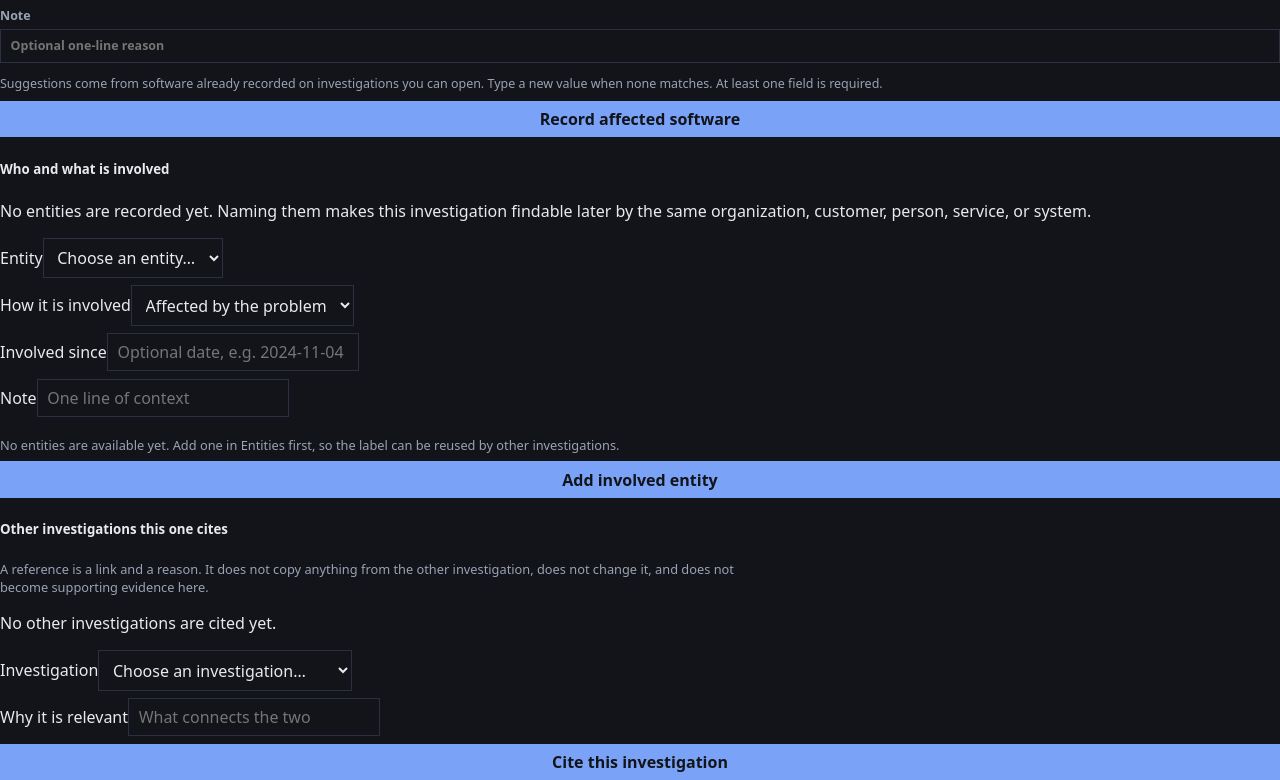
it: citations › explains a refused citation in terms of access, not failure
(page scrolled)
Select "Synthetic prior investigation" in the dropdown named "Investigation to cite" at (225, 671), box [98,650,352,691]
(page scrolled)
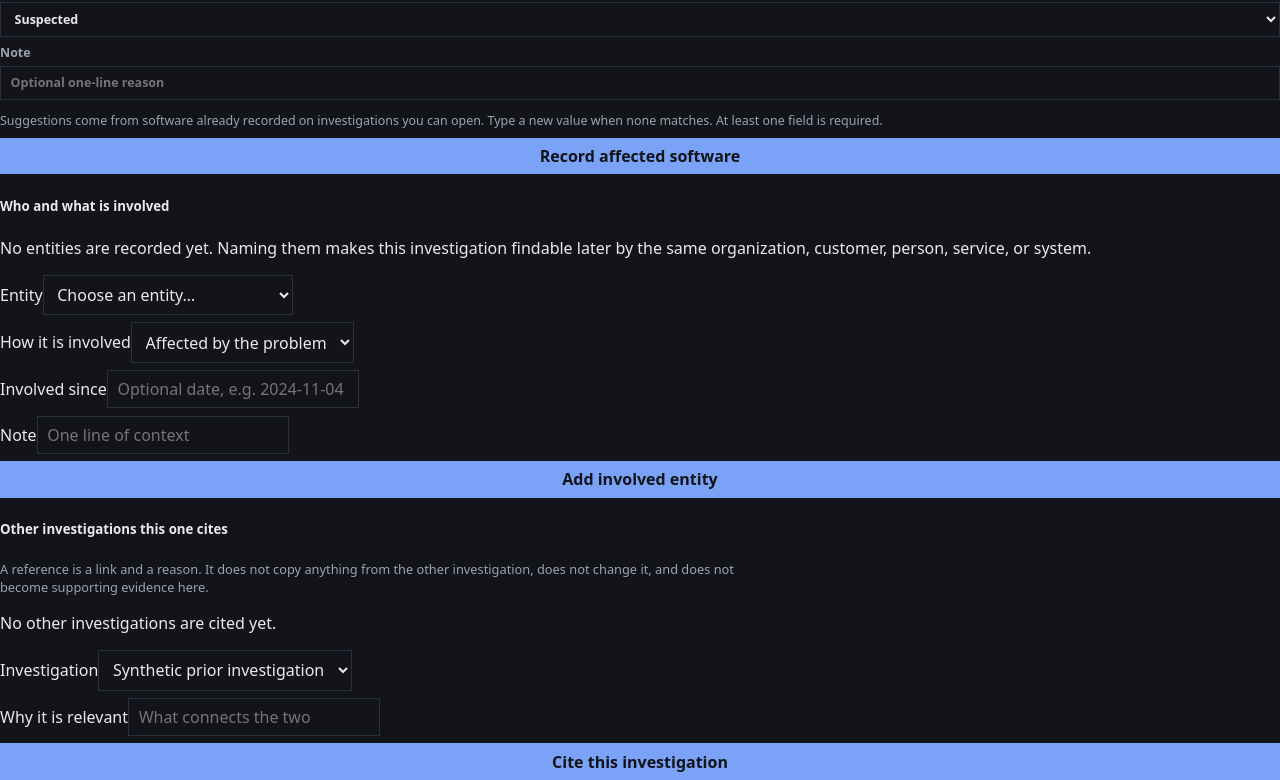
Submit the form named "Cite another investigation", box [0,650,1279,779]
(page scrolled)
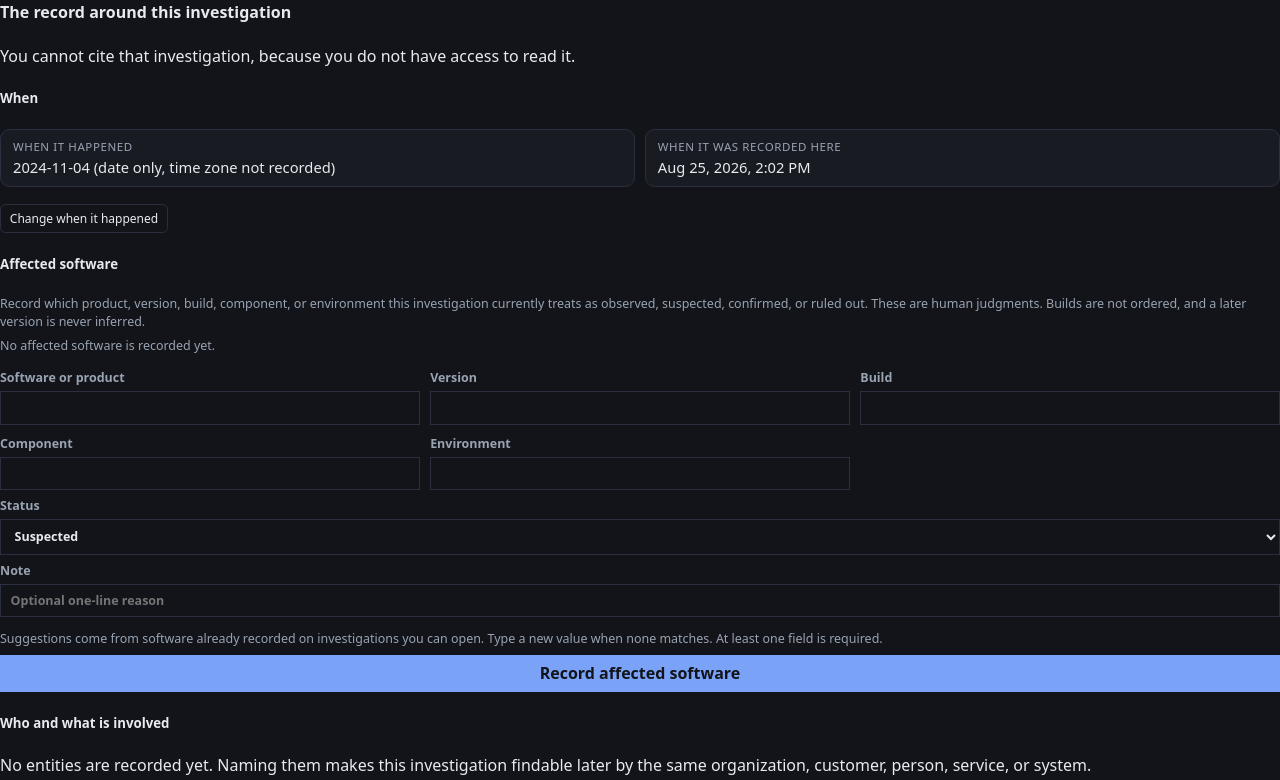
Now the text "You cannot cite that investigation, because you do not have access to read it." is shown, box [0,44,575,66]
